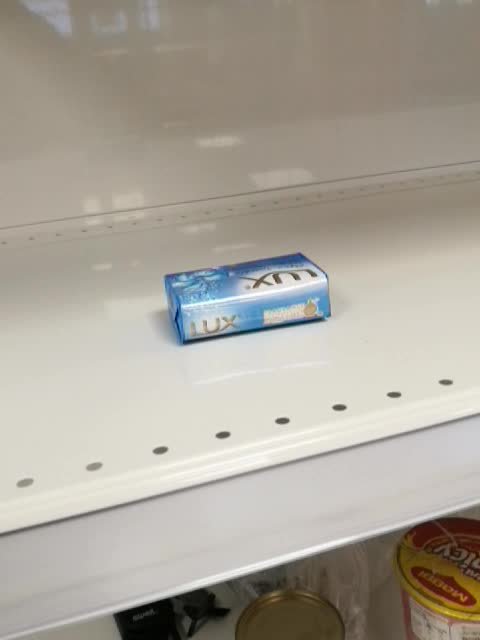soap: (160, 251, 332, 346)
